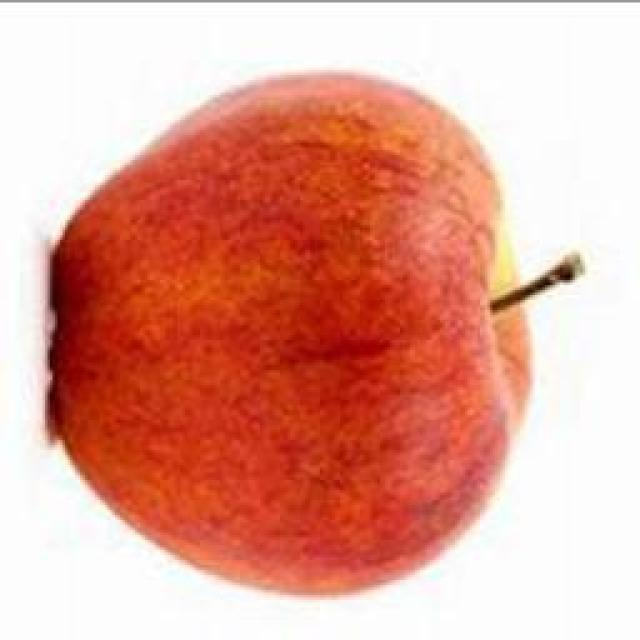apple: (45, 68, 543, 598)
